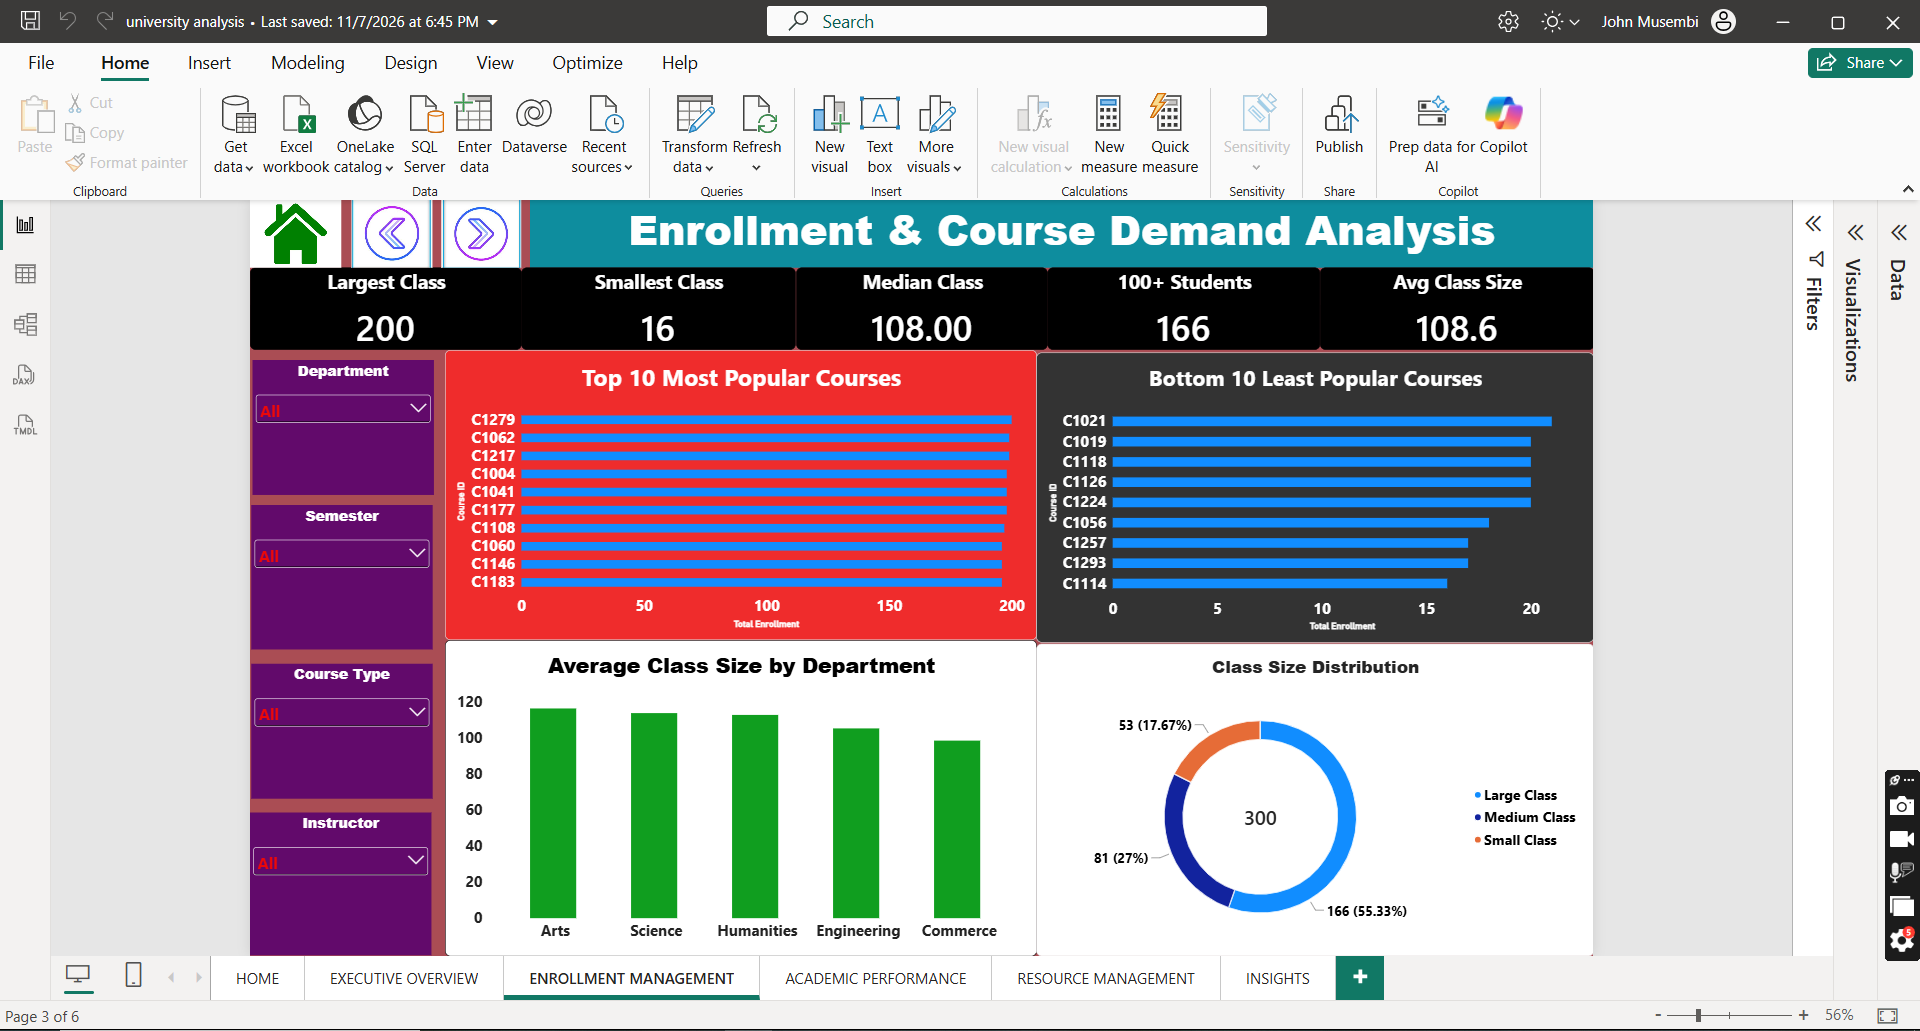

The dashboard page shown, as its layout file describes it:
{"tool":"powerbi","page":{"name":"ENROLLMENT MANAGEMENT","canvas":[1920,1080],"ordinal":2},"visuals":[{"type":"slicer","title":"Department","fields":{"Values":["University_Courses.Department"]},"box":[3.8,228.9,259.2,193],"z":0},{"type":"slicer","title":"Semester","fields":{"Values":["University_Courses.Semester"]},"box":[1.9,435.2,259.2,206.2],"z":1},{"type":"cardVisual","title":"Largest Class","fields":{"Data":["University_Courses.Largest Class Size"]},"box":[0,96.5,387.9,117.3],"z":2},{"type":"textbox","title":"Enrollment & Course Demand Analysis","box":[400,0,1519.7,96.4],"z":3},{"type":"cardVisual","title":"Smallest Class","fields":{"Data":["University_Courses.Smallest Class Size"]},"box":[387.9,96.5,391.6,117.3],"z":4},{"type":"cardVisual","title":"Avg Class Size","fields":{"Data":["University_Courses.Average Class Size"]},"box":[1528.7,96.5,391.6,117.3],"z":5},{"type":"cardVisual","title":"100+ Students","fields":{"Data":["University_Courses.Courses with 100+ Students"]},"box":[1139,96.5,389.8,117.3],"z":6},{"type":"clusteredBarChart","title":"Top 10 Most Popular Courses ","fields":{"Category":["University_Courses.Course ID"],"Y":["University_Courses.Total Enrollment"]},"box":[278.1,213.8,845.7,414.3],"z":7},{"type":"clusteredBarChart","title":"Bottom 10 Least Popular Courses","fields":{"Category":["University_Courses.Course ID"],"Y":["University_Courses.Total Enrollment"]},"box":[1123.9,217.6,796.5,414.3],"z":8},{"type":"clusteredColumnChart","title":"Average Class Size by Department","fields":{"Category":["University_Courses.Department"],"Y":["University_Courses.Average Class Size"]},"box":[278.1,628.1,845.7,452.2],"z":9},{"type":"cardVisual","title":"Median Class","fields":{"Data":["University_Courses.Median Class Size"]},"box":[779.5,96.5,359.5,117.3],"z":10},{"type":"donutChart","title":"Class Size Distribution","fields":{"Category":["University_Courses.Class Size Category"],"Y":["CountNonNull(University_Courses.Course ID)"]},"box":[1123.9,633.8,796.5,446.5],"z":11},{"type":"slicer","title":"Course Type","fields":{"Values":["University_Courses.Course Type"]},"box":[1.9,662.2,259.2,193],"z":12},{"type":"slicer","title":"Instructor","fields":{"Values":["University_Courses.Instructor"]},"box":[0,875.7,259.2,204.3],"z":13},{"type":"image","box":[0,0,130.4,96.4],"z":14},{"type":"image","box":[273.2,0,114.3,96.4],"z":15},{"type":"image","box":[144.6,0,116.1,96.4],"z":16}]}

Visuals, with their boxes on the page's 1920x1080 design canvas (x1, y1, x2, y2). These are canvas units, not pixel positions in the 1920x1031 screenshot, which may show the page scaled, cropped or inside an application window:
"Department" slicer: {"left": 4, "top": 229, "right": 263, "bottom": 422}
"Semester" slicer: {"left": 2, "top": 435, "right": 261, "bottom": 641}
"Largest Class" cardVisual: {"left": 0, "top": 96, "right": 388, "bottom": 214}
"Enrollment & Course Demand Analysis" textbox: {"left": 400, "top": 0, "right": 1920, "bottom": 96}
"Smallest Class" cardVisual: {"left": 388, "top": 96, "right": 780, "bottom": 214}
"Avg Class Size" cardVisual: {"left": 1529, "top": 96, "right": 1920, "bottom": 214}
"100+ Students" cardVisual: {"left": 1139, "top": 96, "right": 1529, "bottom": 214}
"Top 10 Most Popular Courses " clusteredBarChart: {"left": 278, "top": 214, "right": 1124, "bottom": 628}
"Bottom 10 Least Popular Courses" clusteredBarChart: {"left": 1124, "top": 218, "right": 1920, "bottom": 632}
"Average Class Size by Department" clusteredColumnChart: {"left": 278, "top": 628, "right": 1124, "bottom": 1080}
"Median Class" cardVisual: {"left": 780, "top": 96, "right": 1139, "bottom": 214}
"Class Size Distribution" donutChart: {"left": 1124, "top": 634, "right": 1920, "bottom": 1080}
"Course Type" slicer: {"left": 2, "top": 662, "right": 261, "bottom": 855}
"Instructor" slicer: {"left": 0, "top": 876, "right": 259, "bottom": 1080}
image: {"left": 0, "top": 0, "right": 130, "bottom": 96}
image: {"left": 273, "top": 0, "right": 388, "bottom": 96}
image: {"left": 145, "top": 0, "right": 261, "bottom": 96}
